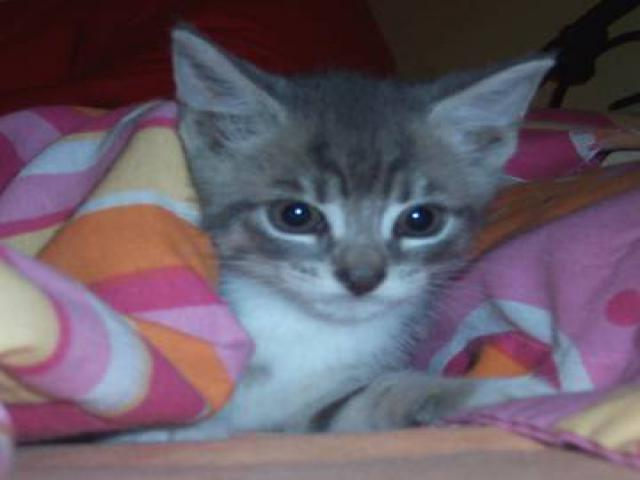cat: (149, 25, 563, 436)
